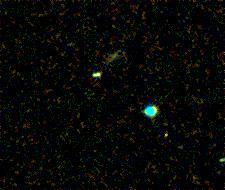star: (160, 123, 190, 153)
